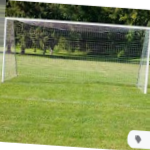goals: (1, 15, 150, 97)
